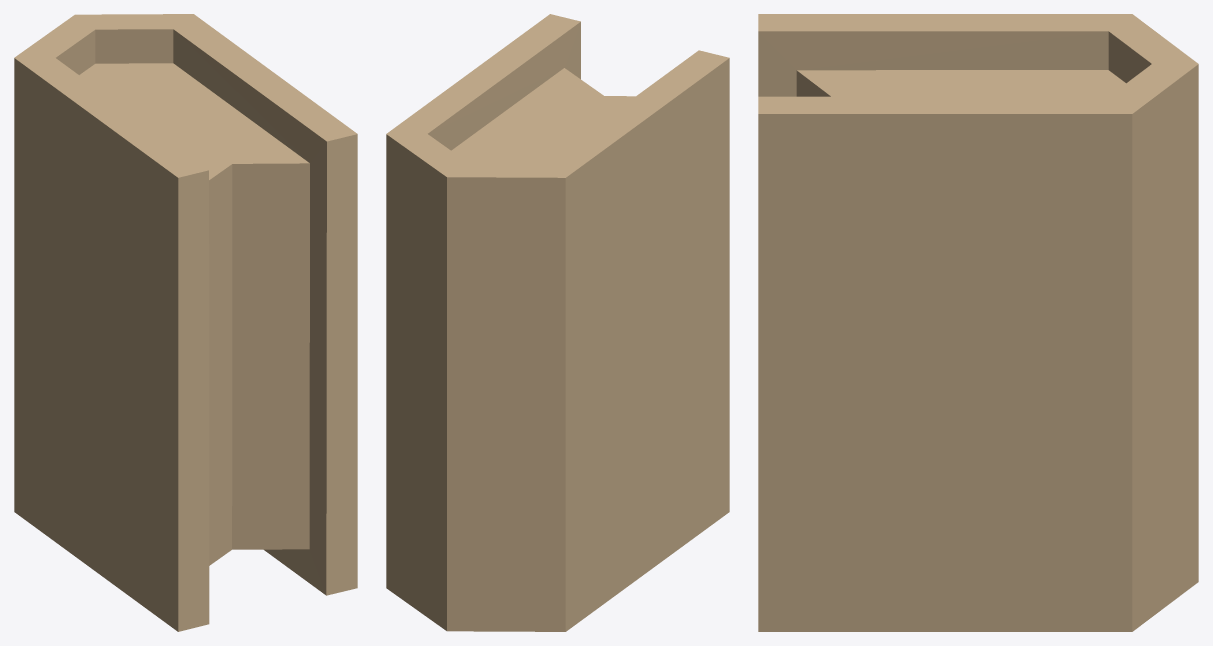
Rendered from Libro 2.fbx.
3 views of the same model, side by side, from view 1: azimuth 30°, elevation 25°; view 2: azimuth 150°, elevation 25°; view 3: azimuth 270°, elevation 25° (orthographic). The views are drawn at different scales.
Parts seen in each view (by area): view 1: Cube; view 2: Cube; view 3: Cube.
Part boxes in pixels (left/top/right/bottom): Cube: left=14, top=14, right=357, bottom=631; Cube: left=386, top=14, right=729, bottom=631; Cube: left=758, top=14, right=1198, bottom=631.
Size of the model in its own units: 82.79 by 200 by 154.
